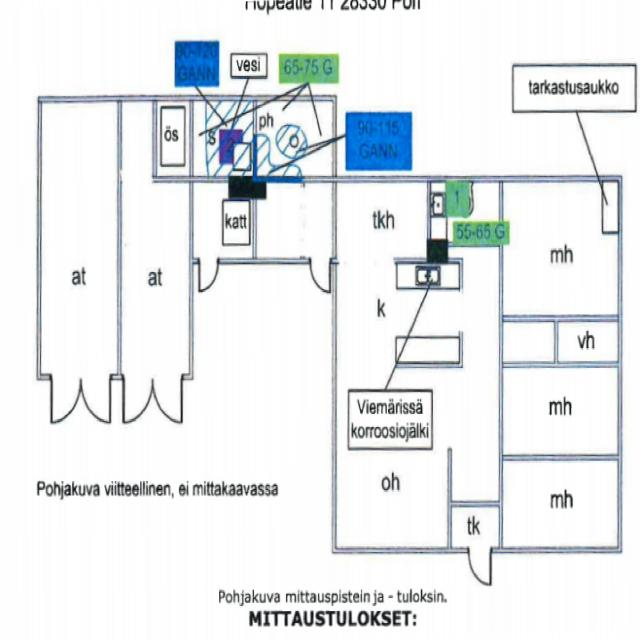door: (81, 373, 111, 420), (152, 373, 182, 419), (52, 373, 81, 420), (124, 373, 152, 419), (469, 547, 491, 583), (199, 258, 218, 291), (312, 258, 331, 290)
